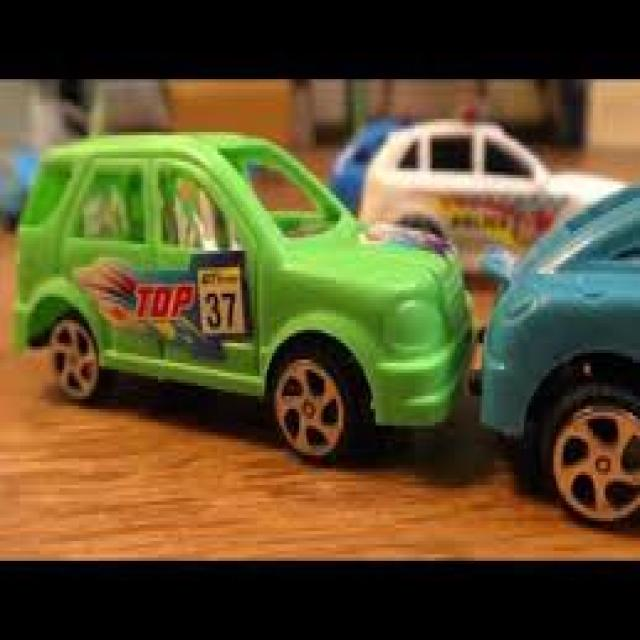Car: (10, 125, 479, 462), (467, 172, 638, 524)
